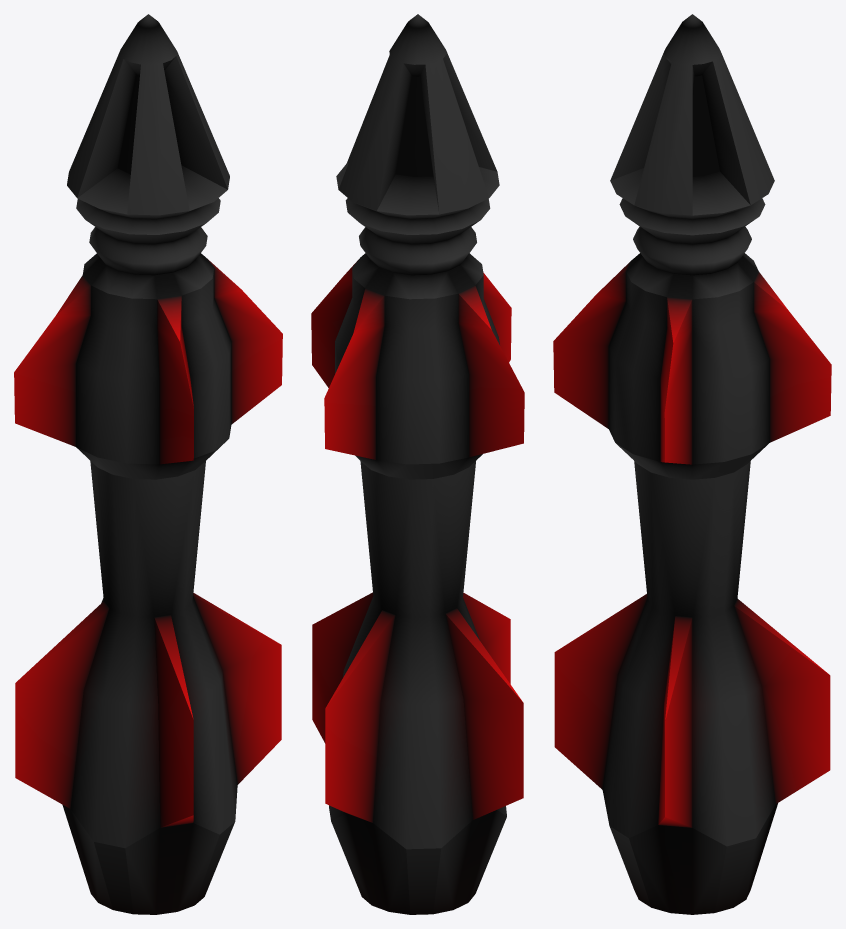
Rendered from Rocket02.FBX.
The picture shows the model from 3 angles, left to right: view 1: azimuth 30°, elevation 25°; view 2: azimuth 150°, elevation 25°; view 3: azimuth 270°, elevation 25°; orthographic projection.
Visible parts, largest first — view 1: Rocket; view 2: Rocket; view 3: Rocket.
Boxes of the visible parts, x1,y1,x2,y2 form: Rocket: (14, 14, 282, 914); Rocket: (311, 14, 524, 914); Rocket: (553, 14, 831, 914).
Bounding box in the file's own units: 7.71 × 26.79 × 7.71.
